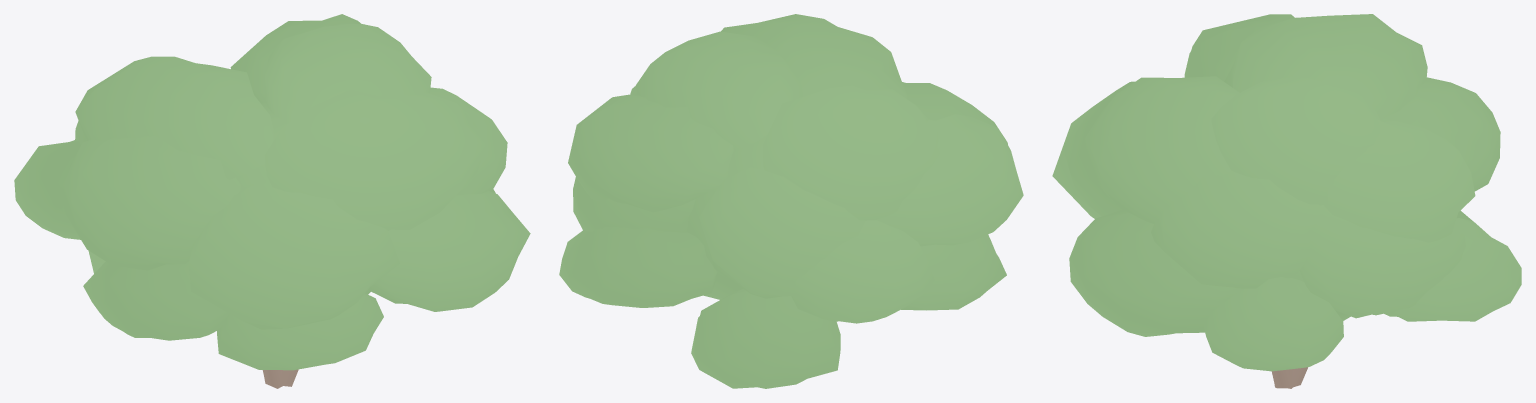
File: Blender_Shrub_3.glb
3 renders of one model, left to right at view 1: azimuth 30°, elevation 25°; view 2: azimuth 150°, elevation 25°; view 3: azimuth 270°, elevation 25°, orthographic. The views are drawn at different scales.
Parts seen in each view (by area): view 1: Blender_Shrub_3; view 2: Blender_Shrub_3; view 3: Blender_Shrub_3.
Boxes of the visible parts, x1,y1,x2,y2 form: Blender_Shrub_3: [14, 14, 530, 388]; Blender_Shrub_3: [559, 14, 1023, 388]; Blender_Shrub_3: [1052, 14, 1521, 388].
Size of the model in its own units: 2.73 by 1.99 by 2.56.
